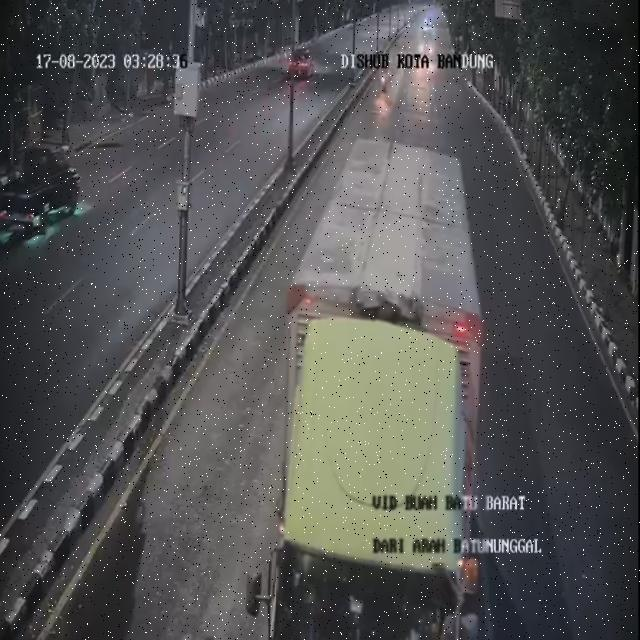truck: (276, 125, 489, 640)
